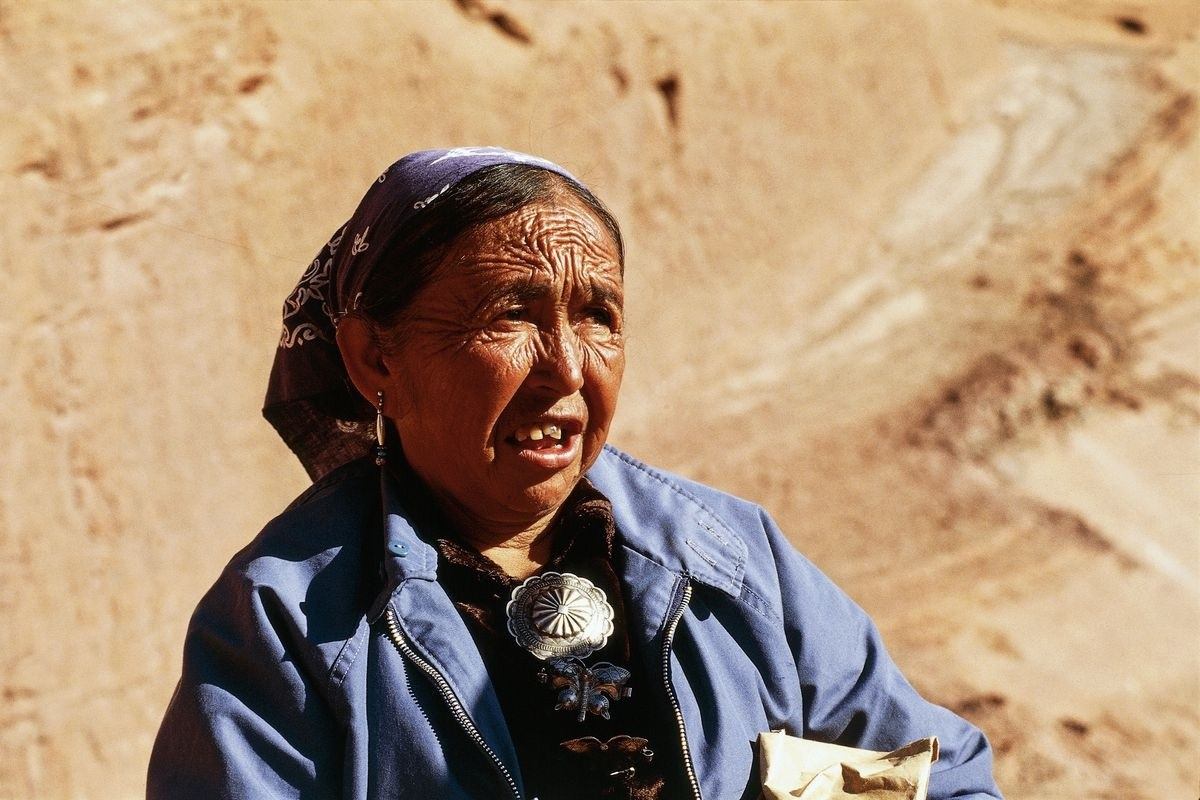face_no_mask: (362, 167, 635, 520)
